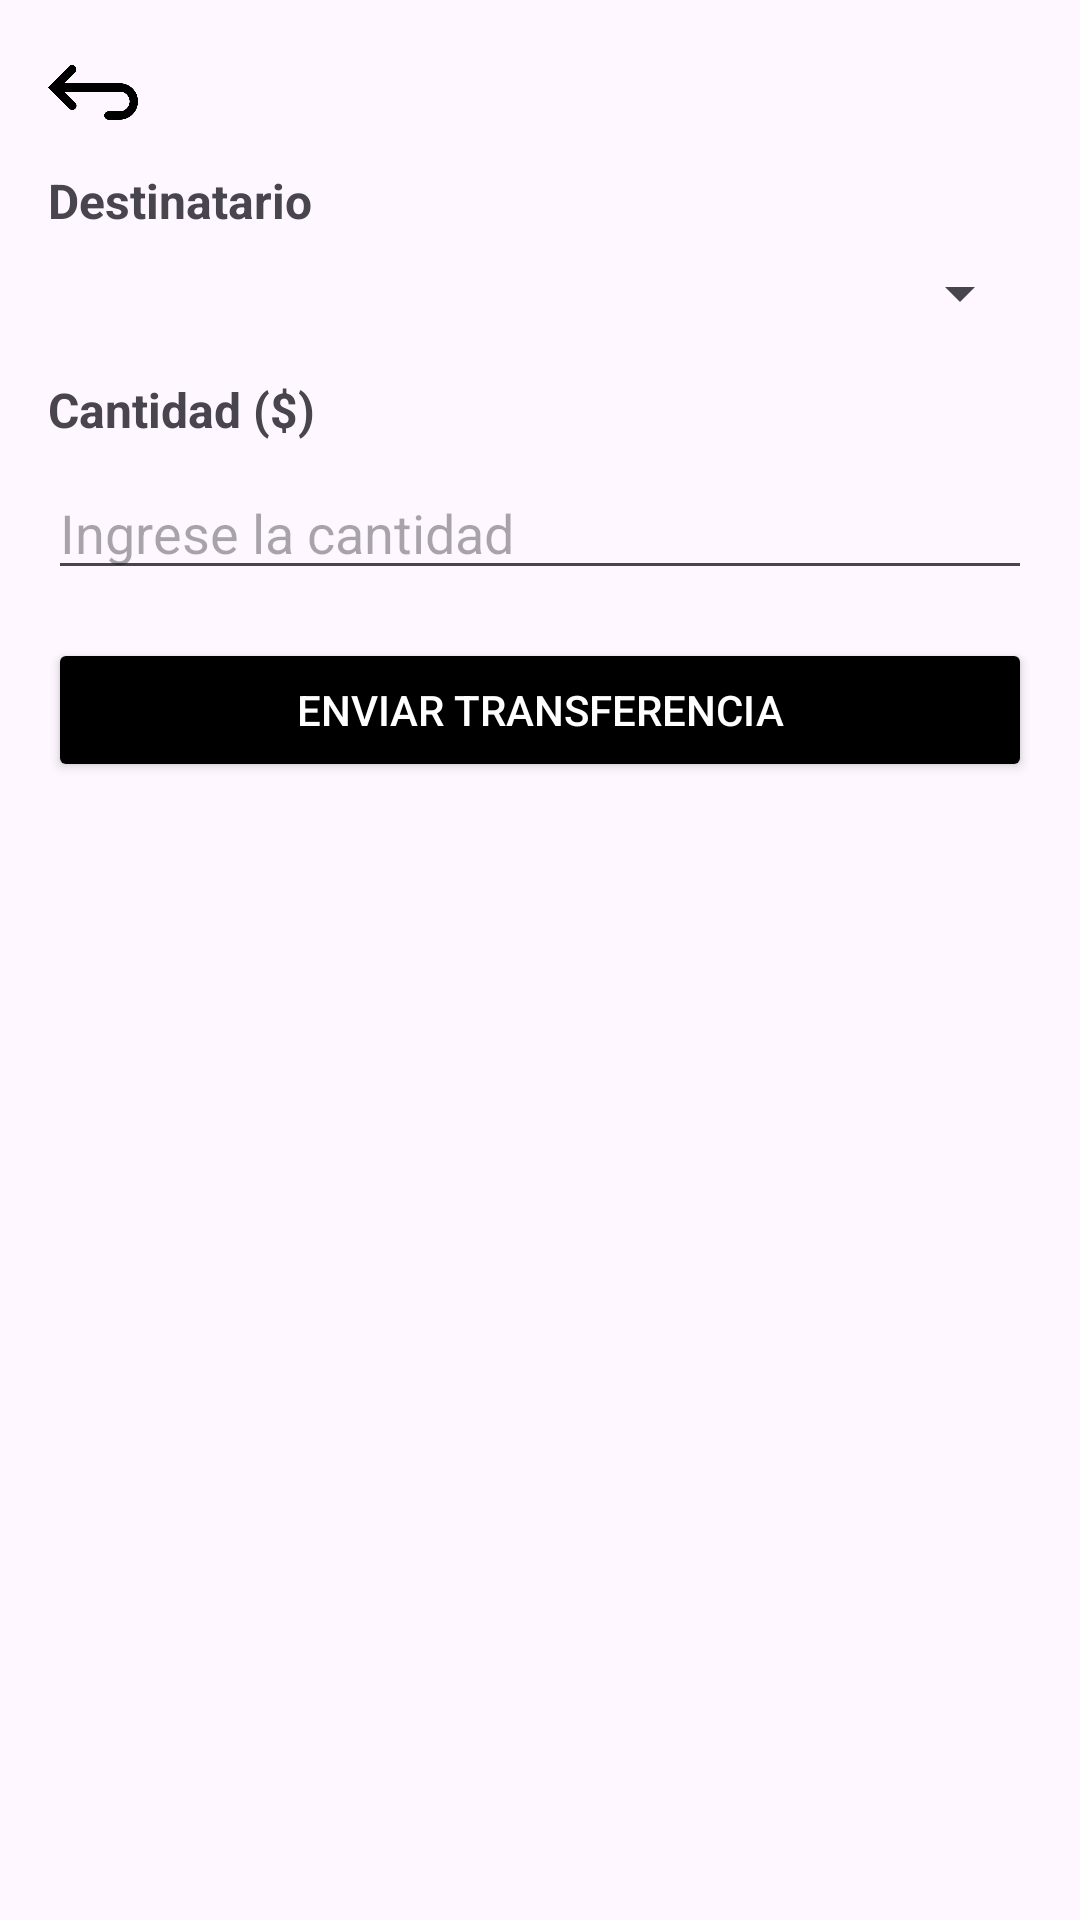

Named icons in this screenshot (1080w x 1920h) and their centers, point (x, y):
pajamas go back: point (93, 92)
